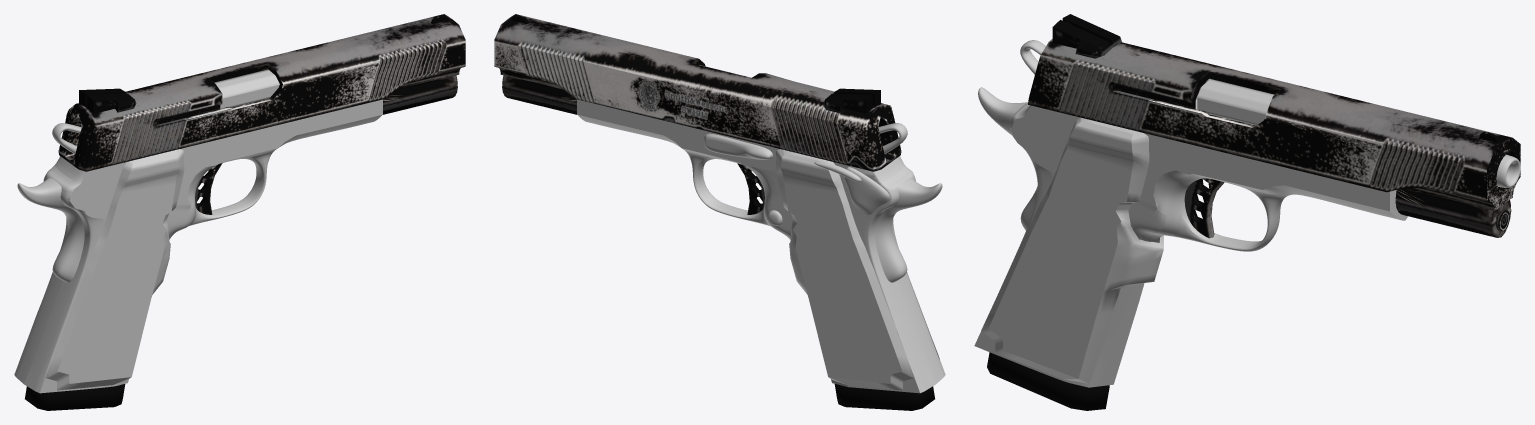
Rendered from pistol.obj.
The picture shows the model from 3 angles, left to right: view 1: azimuth 30°, elevation 25°; view 2: azimuth 150°, elevation 25°; view 3: azimuth 330°, elevation 25°; orthographic projection. The views are drawn at different scales.
Parts seen in each view (by area): view 1: Gun_Cube.001, Cube.005_Cube.000, Cube.002_Cube.003, Gun_trigger_Cube.002; view 2: Gun_Cube.001, Cube.005_Cube.000, Cube.002_Cube.003, Gun_trigger_Cube.002; view 3: Gun_Cube.001, Cube.005_Cube.000, Cube.002_Cube.003, Gun_trigger_Cube.002.
Part boxes in pixels (left/top/right/bottom): Gun_Cube.001: left=14, top=69, right=382, bottom=393; Cube.005_Cube.000: left=58, top=14, right=465, bottom=171; Cube.002_Cube.003: left=25, top=384, right=125, bottom=410; Gun_trigger_Cube.002: left=195, top=163, right=222, bottom=214; Gun_Cube.001: left=577, top=65, right=945, bottom=393; Cube.005_Cube.000: left=494, top=14, right=901, bottom=171; Cube.002_Cube.003: left=834, top=384, right=934, bottom=410; Gun_trigger_Cube.002: left=737, top=163, right=764, bottom=214; Gun_Cube.001: left=974, top=40, right=1520, bottom=387; Cube.005_Cube.000: left=1028, top=14, right=1520, bottom=237; Cube.002_Cube.003: left=987, top=352, right=1109, bottom=410; Gun_trigger_Cube.002: left=1184, top=178, right=1224, bottom=238.
Bounding box in the file's own units: 1.85 × 1.26 × 0.25.
